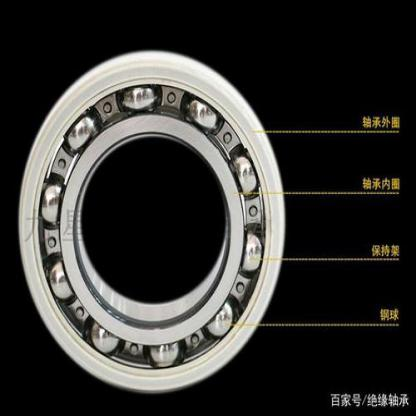FOD: (14, 45, 291, 398)
